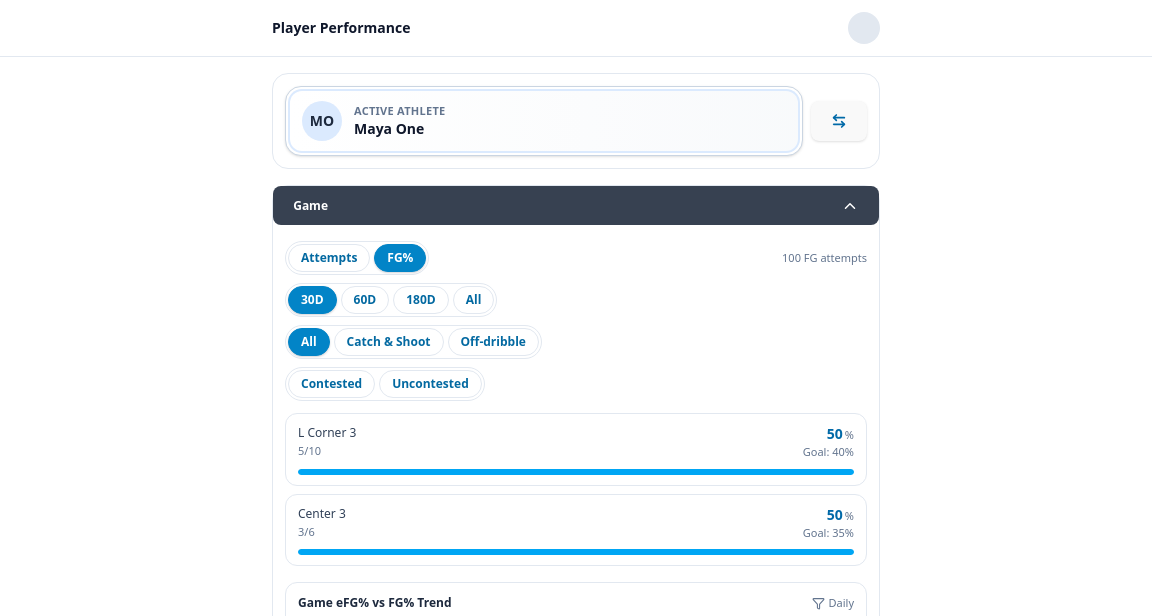
Test: Performance Component › User Interaction Tests - Mode Filter › should update MetricCard display when switching modes
The image size is (1152, 616).
Expected: the text "L Corner 3" is shown, x1=298 y1=424 x2=356 y2=441
Click the button "Attempts": (329,258) x1=288 y1=244 x2=370 y2=272
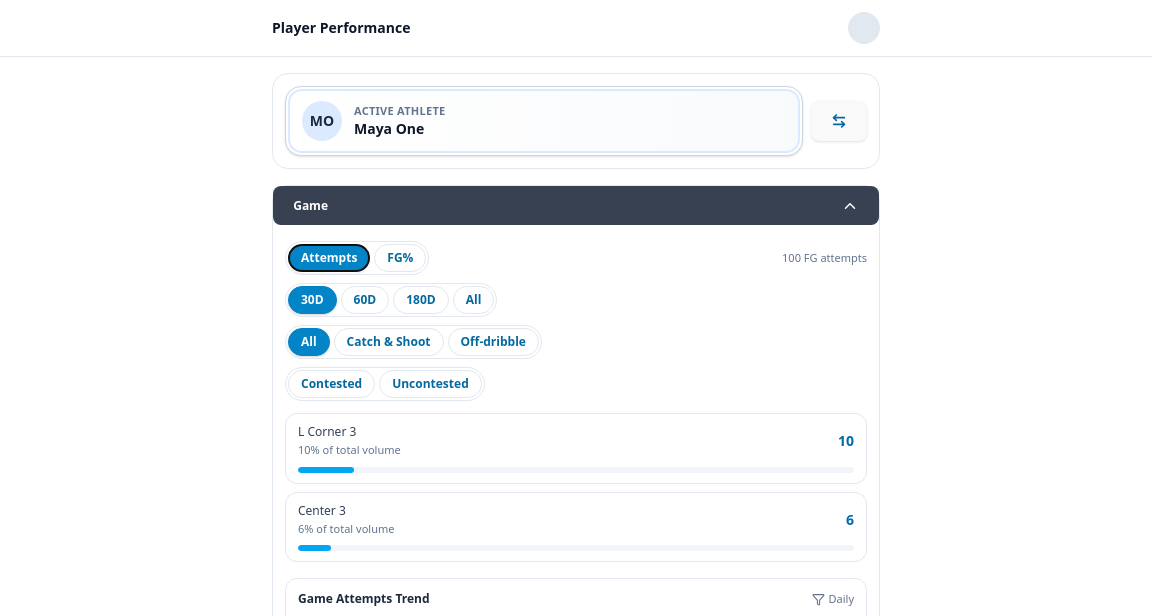
Now the text "10% of total volume" is shown, box x1=298 y1=442 x2=401 y2=457
